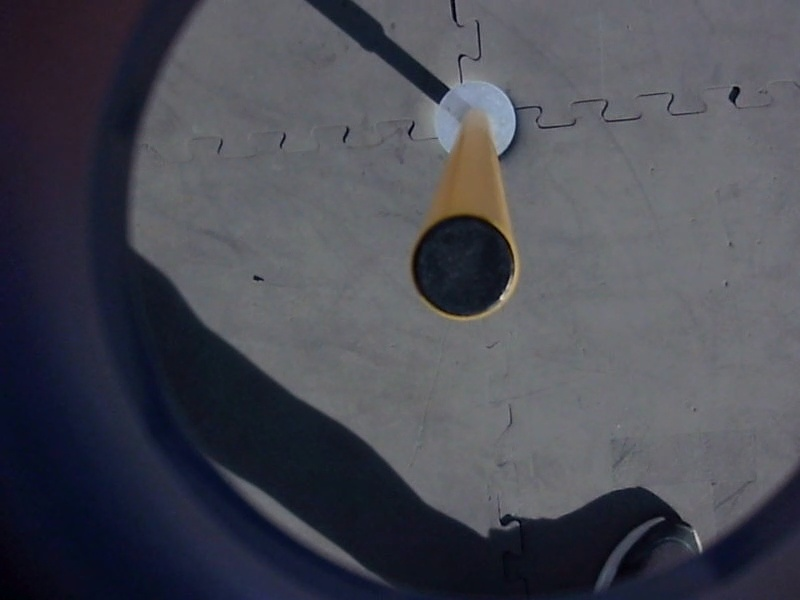tip: (406, 208, 525, 328)
